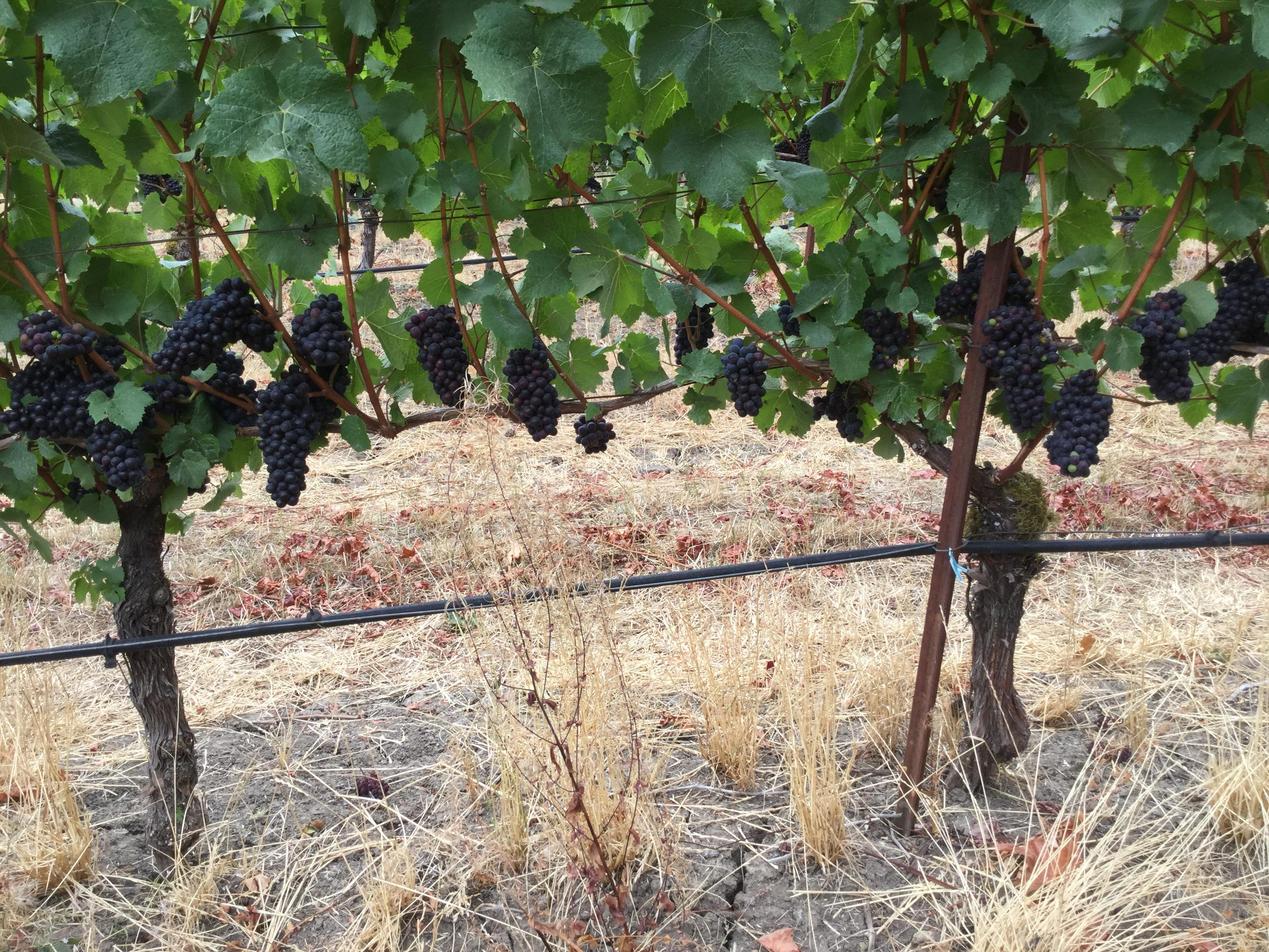leaf: (463, 4, 607, 167), (205, 63, 368, 192), (639, 0, 781, 125), (27, 0, 188, 105), (657, 105, 773, 208), (947, 137, 1029, 236), (570, 231, 643, 324), (1067, 100, 1127, 198), (1117, 86, 1202, 154), (1013, 0, 1122, 48), (759, 159, 829, 211), (1215, 366, 1268, 432), (86, 380, 153, 431), (0, 114, 63, 168), (1204, 187, 1268, 240), (928, 27, 986, 82), (1192, 130, 1246, 180), (828, 327, 873, 381), (1103, 325, 1143, 371), (676, 349, 722, 384), (340, 413, 371, 451), (1262, 364, 1263, 371), (591, 92, 593, 95)
